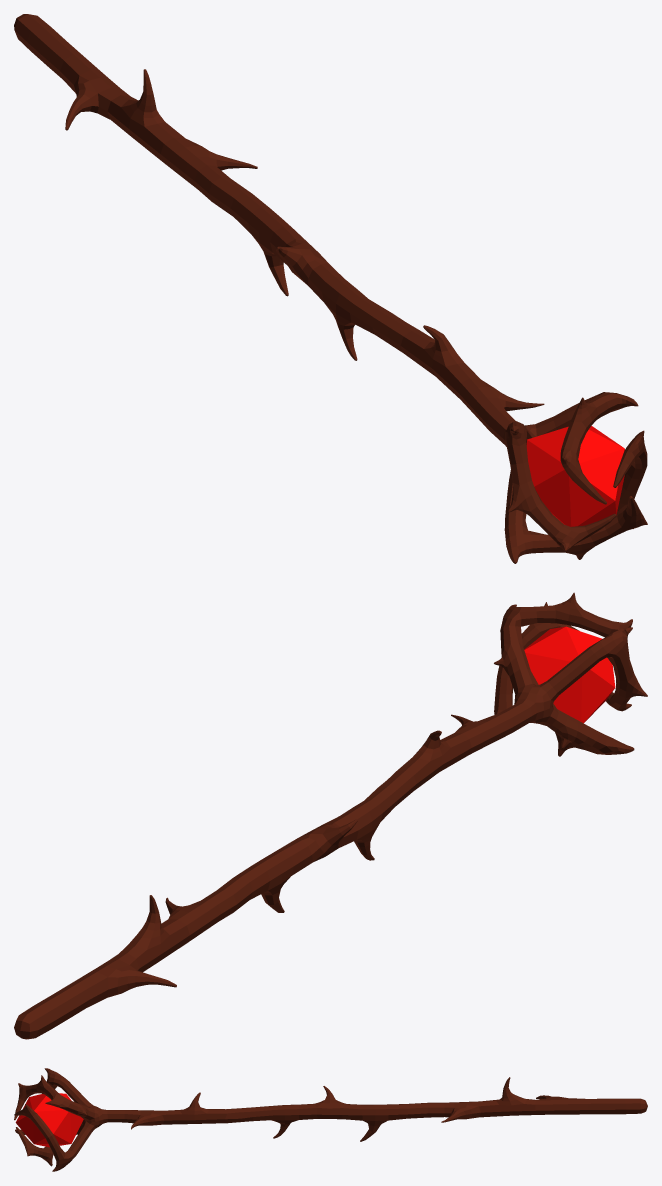
The model's file is Rod.fbx.
3 renders of one model, top to bottom at view 1: azimuth 30°, elevation 25°; view 2: azimuth 150°, elevation 25°; view 3: azimuth 270°, elevation 25°, orthographic. The views are drawn at different scales.
Parts seen in each view (by area): view 1: Rod; view 2: Rod; view 3: Rod.
Part boxes in pixels (x1,y1,x2,y2): Rod: (14, 14, 647, 563); Rod: (14, 592, 647, 1039); Rod: (14, 1068, 647, 1171).
Size of the model in its own units: 47.81 by 52.69 by 338.
